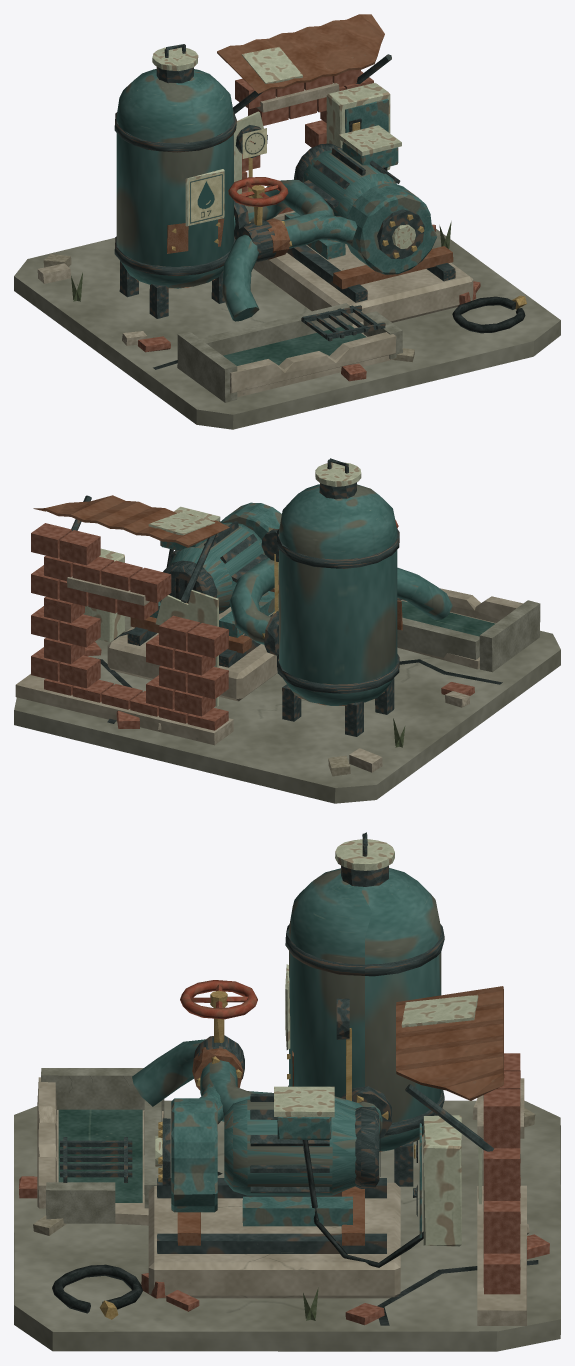
The model's file is water_station_lod1.glb.
3 renders of one model, top to bottom at view 1: azimuth 30°, elevation 25°; view 2: azimuth 150°, elevation 25°; view 3: azimuth 270°, elevation 25°, orthographic. The views are drawn at different scales.
Visible parts, largest first — view 1: water_station_lod1; view 2: water_station_lod1; view 3: water_station_lod1.
Boxes of the visible parts, x1,y1,x2,y2 form: water_station_lod1: (14, 14, 560, 429); water_station_lod1: (14, 458, 560, 803); water_station_lod1: (14, 832, 560, 1351).
Size of the model in its own units: 4.23 by 2.95 by 4.23.
Materials: 1 (1 with a texture image).
